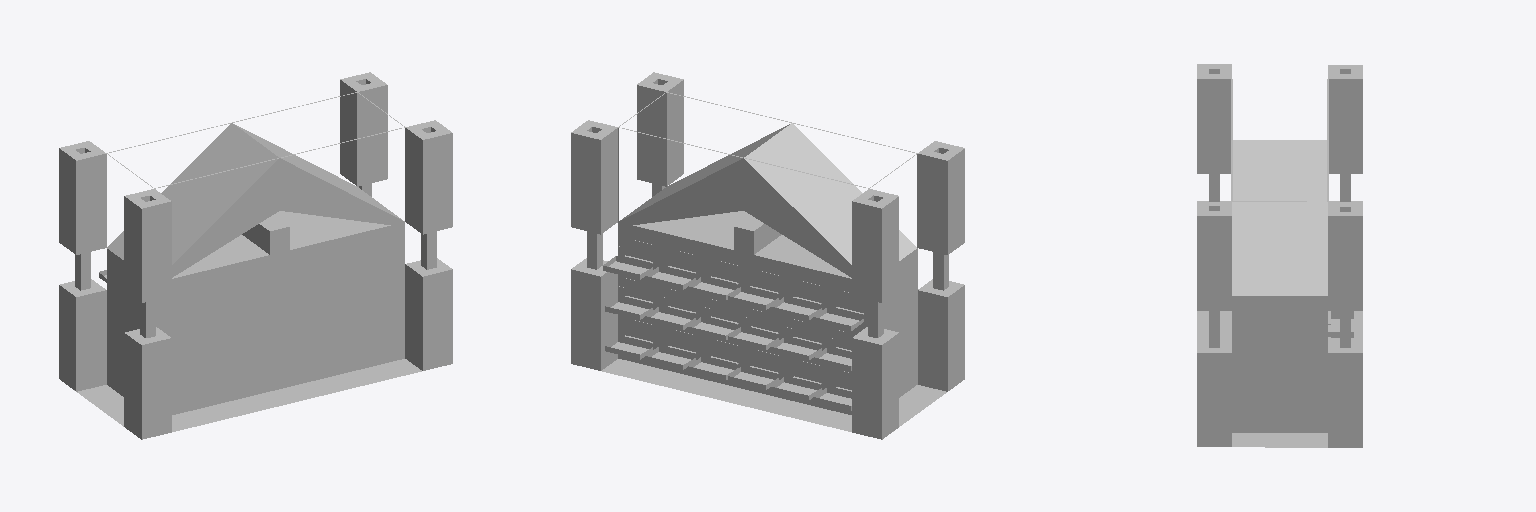
Rendered from Uv-mapped-3ds-house.obj.
3 renders of one model, left to right at view 1: azimuth 30°, elevation 25°; view 2: azimuth 150°, elevation 25°; view 3: azimuth 270°, elevation 25°, orthographic.
Visible parts, largest first — view 1: Mesh55, beam_wit03, beam_wit02, beam_wit01, beam_wit04, Mesh57; view 2: Mesh55, beam_wit04, beam_wit01, beam_wit02, beam_wit03, beam_with_, Mesh38, Mesh41, Mesh44, Mesh47, Mesh17, Mesh02 (+28 smaller); view 3: Mesh55, beam_wit03, beam_wit04, beam_wit02, beam_with_, beam_wit01, Mesh57.
Boxes of the visible parts, box(x1,y1,x2,y2) form: Mesh55: box(59, 123, 452, 439); beam_wit03: box(405, 120, 452, 234); beam_wit02: box(124, 189, 171, 302); beam_wit01: box(59, 141, 106, 254); beam_wit04: box(340, 72, 387, 186); Mesh57: box(106, 92, 404, 246); Mesh55: box(602, 123, 964, 439); beam_wit04: box(571, 120, 617, 234); beam_wit01: box(852, 189, 898, 302); beam_wit02: box(918, 141, 964, 254); beam_wit03: box(637, 72, 683, 186); beam_with_: box(571, 258, 617, 370); Mesh38: box(771, 287, 821, 320); Mesh41: box(771, 367, 821, 400); Mesh44: box(771, 327, 821, 360); Mesh47: box(814, 298, 863, 330); Mesh17: box(603, 246, 652, 279); Mesh02: box(646, 297, 695, 329); Mesh55: box(1197, 140, 1362, 447); beam_wit03: box(1197, 202, 1231, 310); beam_wit04: box(1328, 202, 1362, 310); beam_wit02: box(1197, 64, 1231, 173); beam_with_: box(1328, 338, 1362, 447); beam_wit01: box(1328, 65, 1362, 173); Mesh57: box(1231, 79, 1328, 201).
Size of the model in its own units: 48.86 by 34.65 by 22.5.